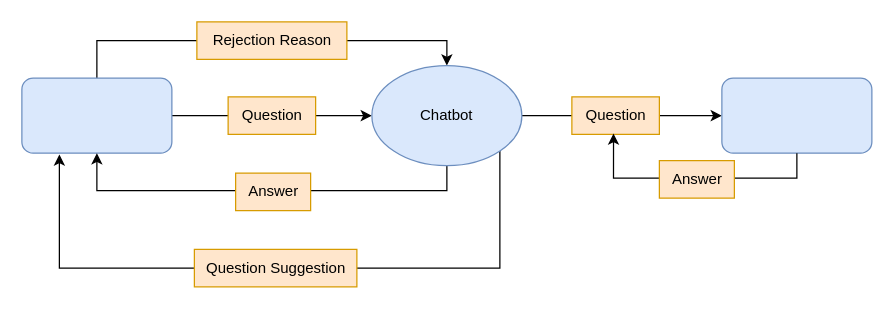
The diagram is 894 pixels wide and 309 high, and some of its shapes have lost their labels. The centre of each missing label's shape, as x and y in pixels:
"Admin" belongs at point (796, 115).
"End User" belongs at point (96, 115).
